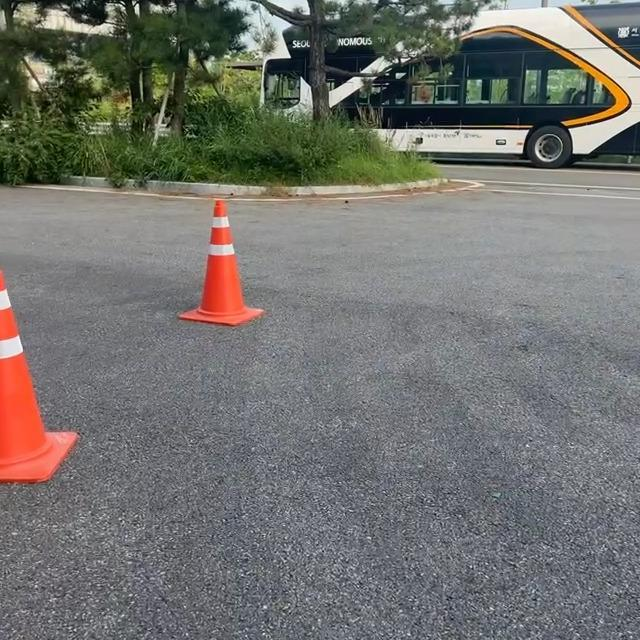fallen_object: (0, 246, 101, 539), (180, 177, 257, 386)
